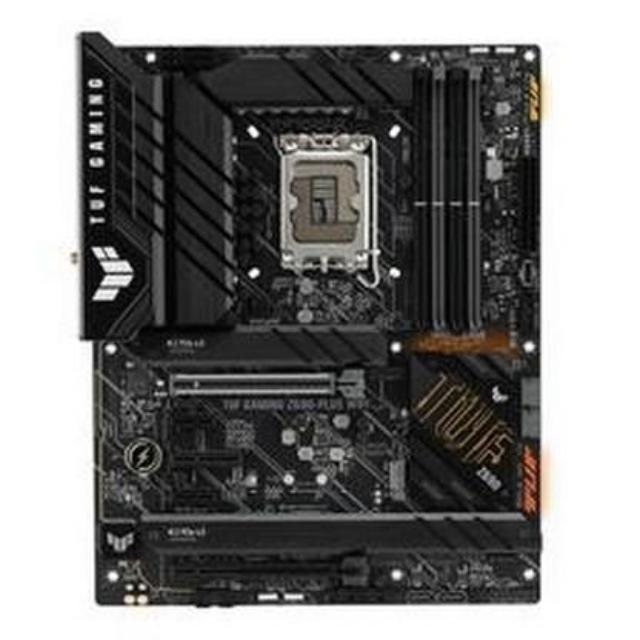Mainboard: (71, 26, 554, 620)
